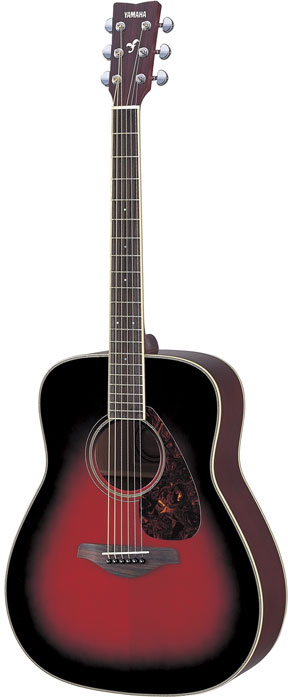guitar: (4, 1, 284, 694)
